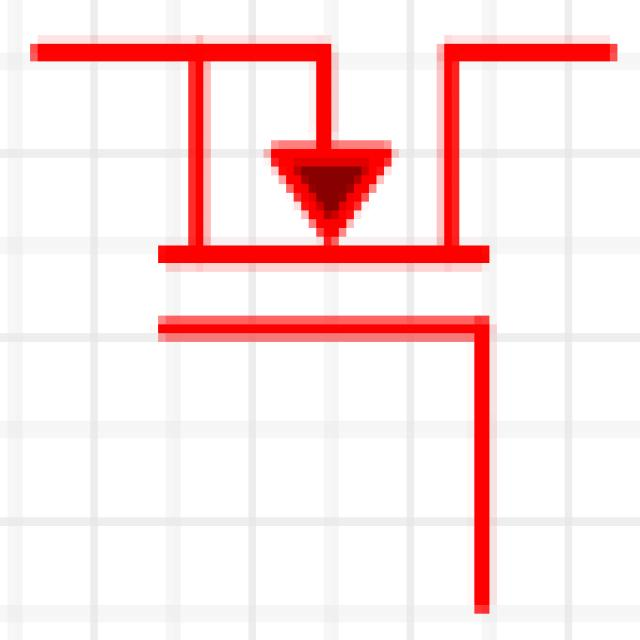nmos: (27, 17, 606, 594)
